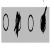correct: (14, 11, 21, 38)
